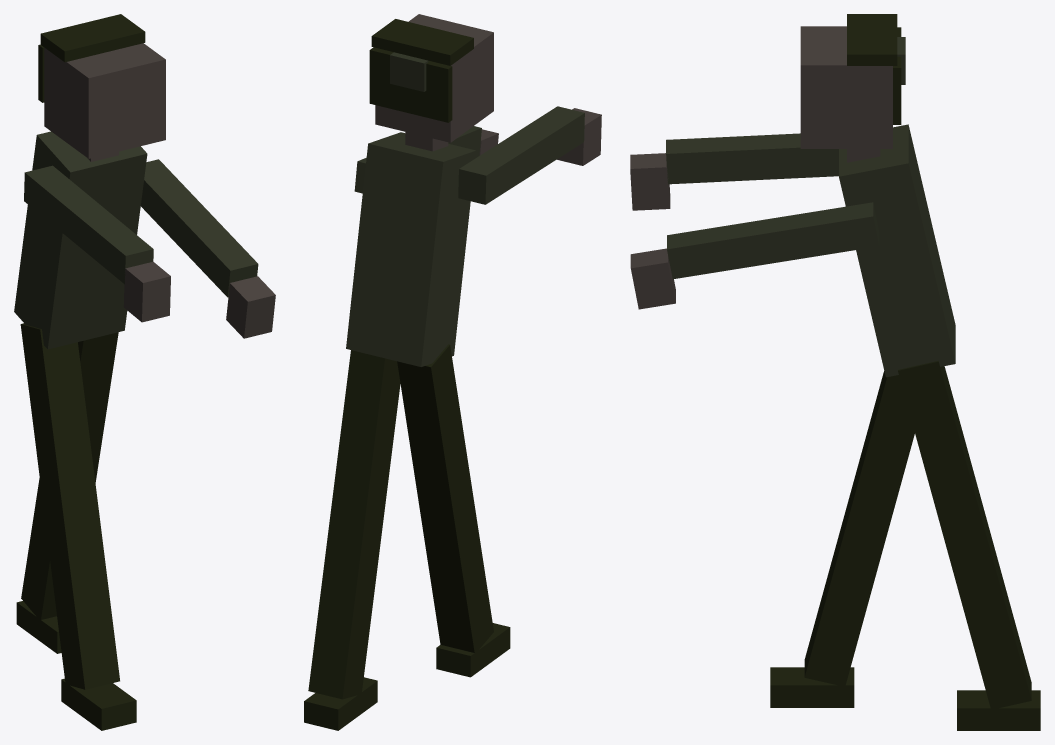
Rendered from SM_ZombiFino_v0_Base_LOD0.fbx.
3 renders of one model, left to right at view 1: azimuth 30°, elevation 25°; view 2: azimuth 150°, elevation 25°; view 3: azimuth 270°, elevation 25°, orthographic. The views are drawn at different scales.
Parts seen in each view (by area): view 1: SM_zombi_fino_v0_LOD0; view 2: SM_zombi_fino_v0_LOD0; view 3: SM_zombi_fino_v0_LOD0.
Part boxes in pixels (left/top/right/bottom): SM_zombi_fino_v0_LOD0: left=14, top=14, right=275, bottom=730; SM_zombi_fino_v0_LOD0: left=304, top=14, right=601, bottom=730; SM_zombi_fino_v0_LOD0: left=630, top=14, right=1040, bottom=730.
Size of the model in its own units: 0.38 by 1.78 by 0.9796.
